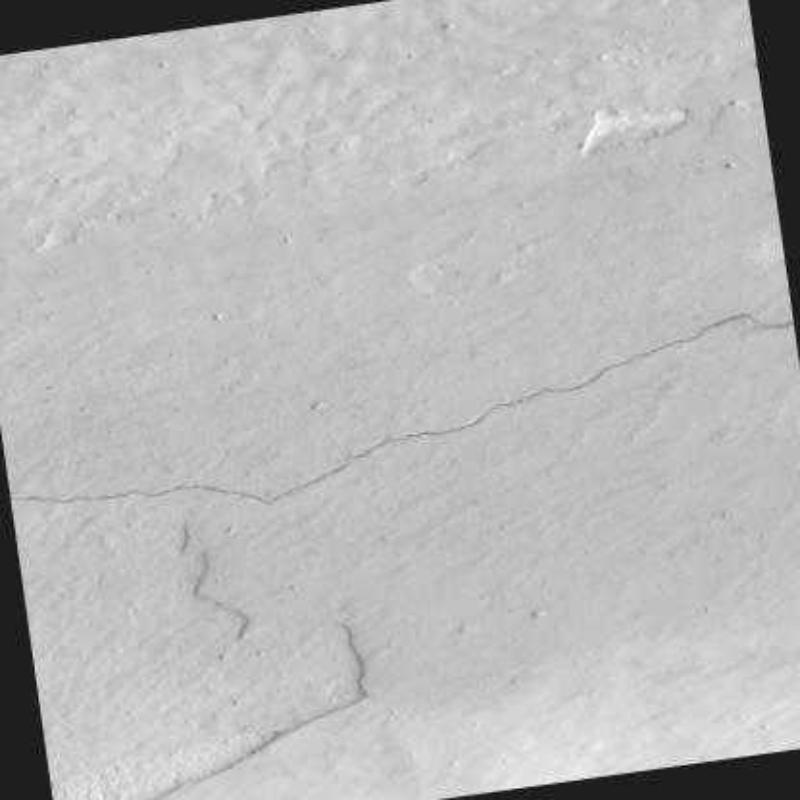pothole: (8, 308, 794, 506)
